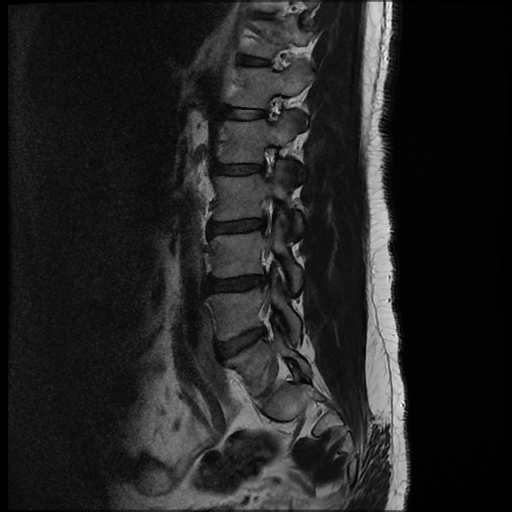RFS0: (253, 135, 285, 186)
RFS1: (246, 193, 286, 243)
